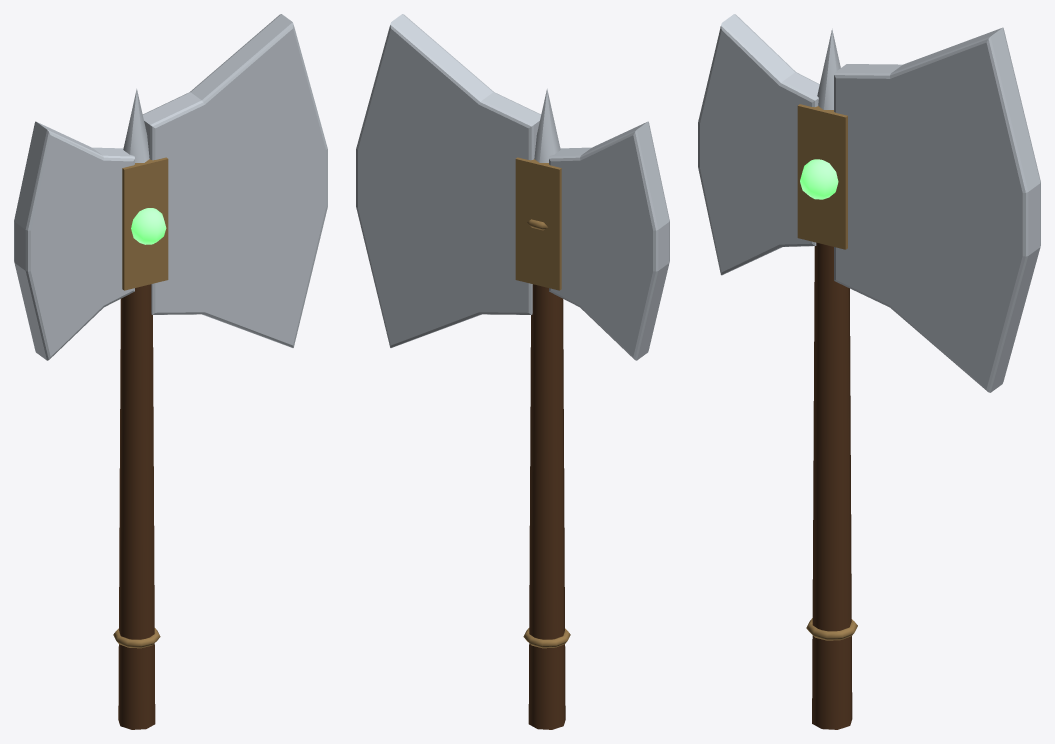
File: axe_f0_2e579df9.glb
3 views of the same model, side by side, from view 1: azimuth 30°, elevation 25°; view 2: azimuth 150°, elevation 25°; view 3: azimuth 330°, elevation 25° (orthographic). The views are drawn at different scales.
Visible parts, largest first — view 1: m3_ow80_, m0_ow80_, m2_ow80_, m1_; view 2: m3_ow80_, m0_ow80_, m2_ow80_; view 3: m3_ow80_, m0_ow80_, m2_ow80_, m1_.
Boxes of the visible parts, x1,y1,x2,y2 form: m3_ow80_: [14, 14, 327, 360]; m0_ow80_: [118, 284, 155, 729]; m2_ow80_: [113, 157, 168, 648]; m1_: [131, 208, 166, 244]; m3_ow80_: [356, 14, 669, 360]; m0_ow80_: [528, 284, 565, 729]; m2_ow80_: [515, 157, 570, 648]; m3_ow80_: [698, 14, 1040, 392]; m0_ow80_: [812, 242, 852, 729]; m2_ow80_: [797, 104, 857, 640]; m1_: [800, 159, 838, 199].
Size of the model in its own units: 1.1 by 2.32 by 0.2013.
